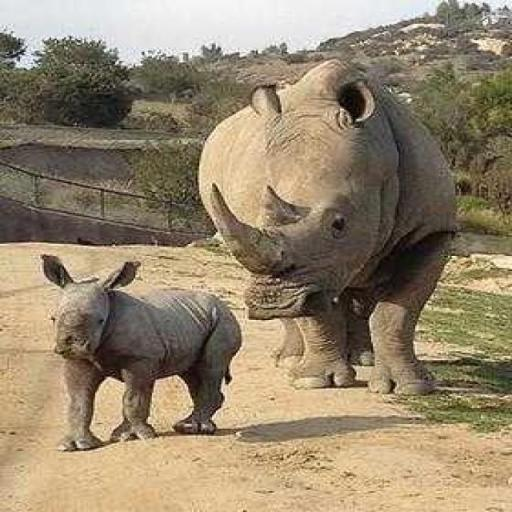Rhino: (196, 56, 458, 395), (38, 253, 242, 451)
